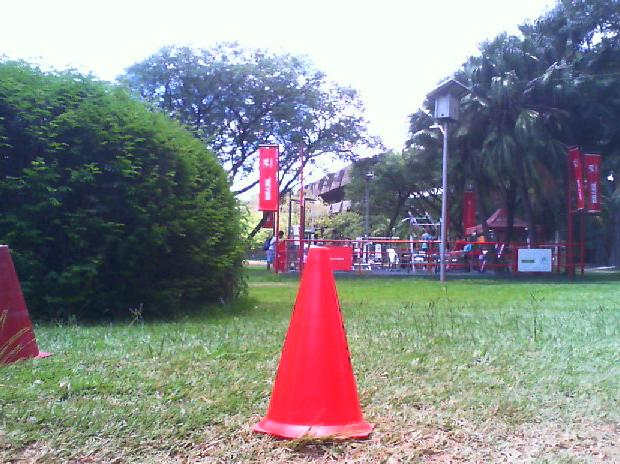0 cone: (249, 246, 376, 442), (0, 245, 57, 367)
